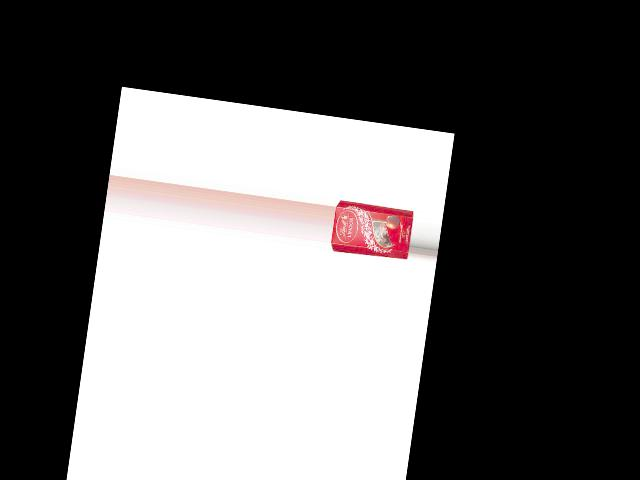chocolate: (330, 196, 415, 262)
